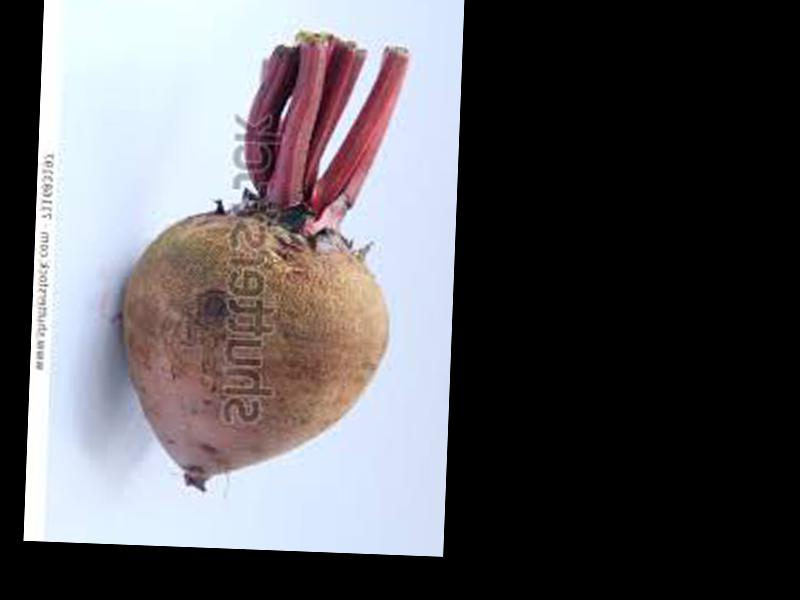Beet: (117, 34, 404, 491)
